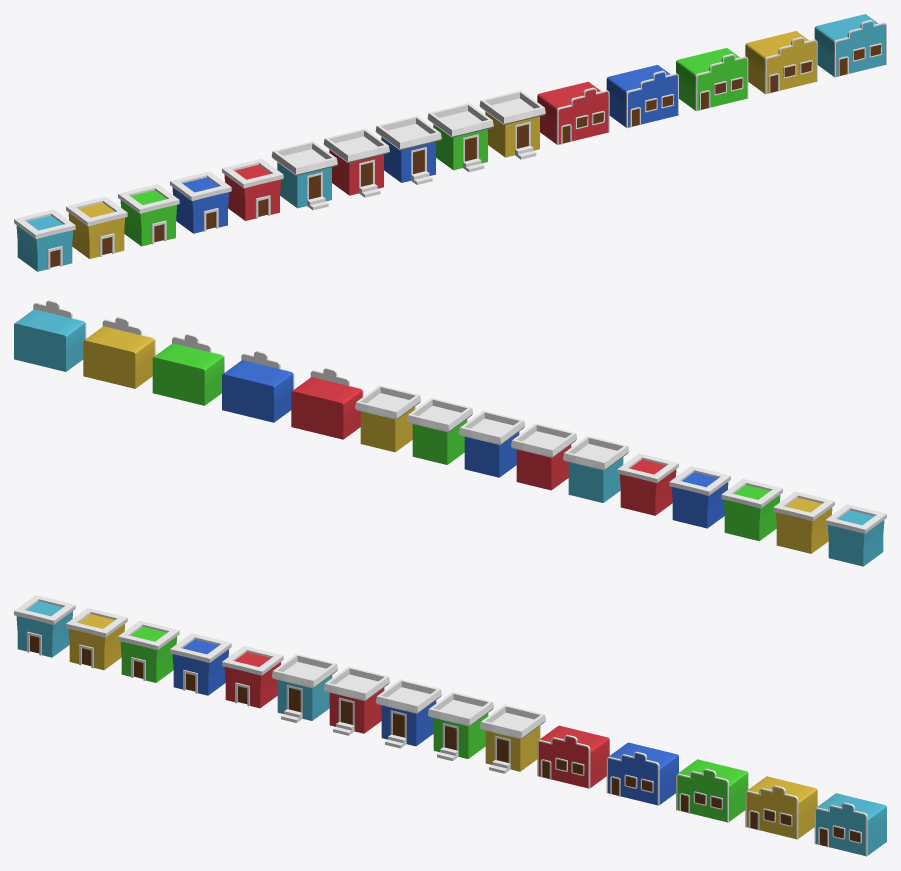
Rendered from CASAS.fbx.
3 renders of one model, top to bottom at view 1: azimuth 30°, elevation 25°; view 2: azimuth 150°, elevation 25°; view 3: azimuth 330°, elevation 25°, orthographic.
Visible parts, largest first — view 1: CASINHA_016, CASINHA_015, CASINHA_014, CASINHA_017, CASINHA_005, CASINHA_009, CASINHA_008, CASINHA_004, CASINHA_007, CASINHA_006, CASINHA_013, CASINHA_012 (+3 smaller); view 2: CASINHA_016, CASINHA_014, CASINHA_015, CASINHA_017, CASINHA_005, CASINHA_009, CASINHA_004, CASINHA_008, CASINHA_006, CASINHA_007, CASINHA_013, CASINHA_012 (+3 smaller); view 3: CASINHA_017, CASINHA_015, CASINHA_005, CASINHA_014, CASINHA_016, CASINHA_008, CASINHA_006, CASINHA_004, CASINHA_007, CASINHA_009, CASINHA_012, CASINHA_013 (+3 smaller).
Part boxes in pixels (x1,y1,x2,y2): CASINHA_016: (745,31,817,94); CASINHA_015: (676,48,748,111); CASINHA_014: (606,65,678,128); CASINHA_017: (814,14,886,77); CASINHA_005: (537,81,609,144); CASINHA_009: (271,141,337,210); CASINHA_008: (479,90,545,159); CASINHA_004: (323,128,389,197); CASINHA_007: (427,103,493,172); CASINHA_006: (375,116,441,184); CASINHA_013: (14,209,75,271); CASINHA_012: (66,197,127,258); CASINHA_016: (83,317,155,388); CASINHA_014: (222,351,294,422); CASINHA_015: (152,334,224,405); CASINHA_017: (14,300,86,371); CASINHA_005: (291,368,363,439); CASINHA_009: (563,436,629,502); CASINHA_004: (511,423,577,490); CASINHA_008: (355,385,420,452); CASINHA_006: (459,410,524,477); CASINHA_007: (407,398,472,464); CASINHA_013: (825,504,886,566); CASINHA_012: (773,491,834,553); CASINHA_017: (814,793,886,856); CASINHA_015: (676,759,748,822); CASINHA_005: (537,725,609,788); CASINHA_014: (606,742,678,805); CASINHA_016: (745,776,817,839); CASINHA_008: (479,704,545,773); CASINHA_006: (375,679,441,748); CASINHA_004: (323,666,389,735); CASINHA_007: (428,692,493,760); CASINHA_009: (272,654,337,722); CASINHA_012: (66,608,127,670); CASINHA_013: (14,595,75,657).
Bounding box in the file's own units: 4916 × 264 × 284.
